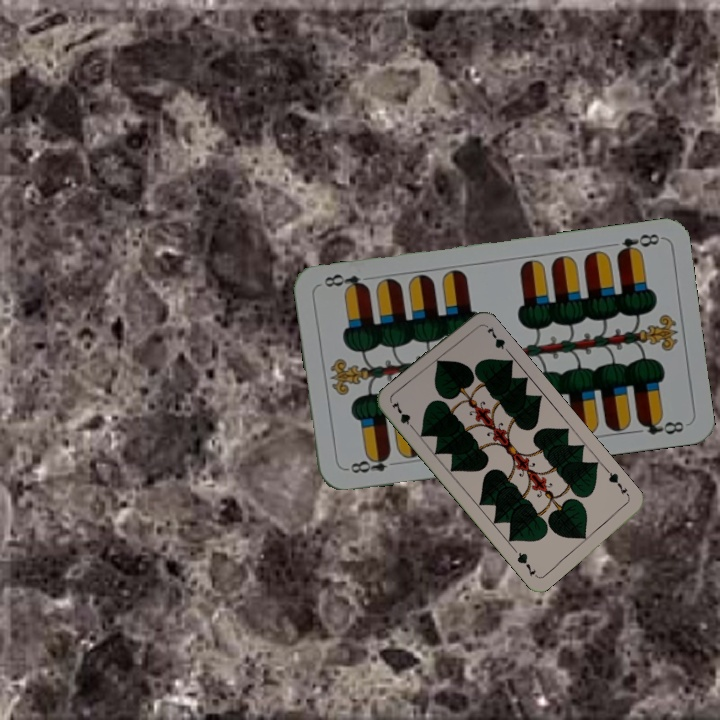E8: (342, 449, 401, 476), (612, 229, 662, 259)
G7: (387, 397, 418, 434), (603, 466, 632, 501)
